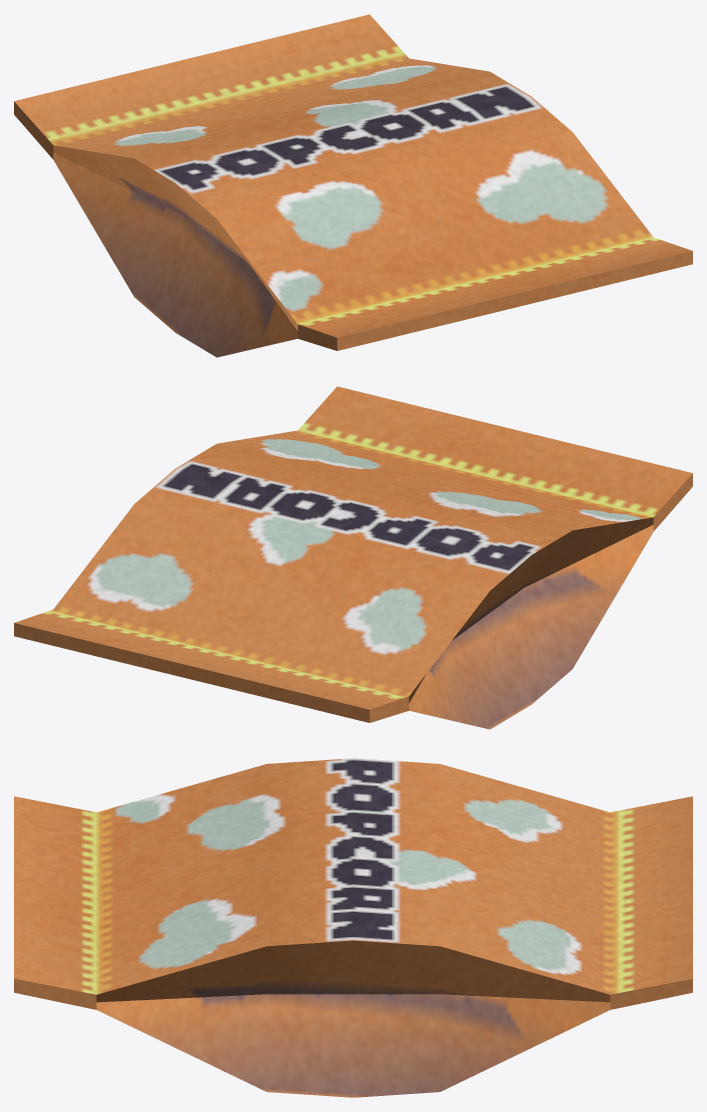
The model's file is Popcorn_Cooked 1.fbx.
The picture shows the model from 3 angles, top to bottom: view 1: azimuth 30°, elevation 25°; view 2: azimuth 150°, elevation 25°; view 3: azimuth 270°, elevation 25°; orthographic projection. The views are drawn at different scales.
Parts seen in each view (by area): view 1: Popcorn_Cooked; view 2: Popcorn_Cooked; view 3: Popcorn_Cooked.
Boxes of the visible parts, x1,y1,x2,y2 form: Popcorn_Cooked: (14, 14, 692, 357); Popcorn_Cooked: (14, 386, 692, 729); Popcorn_Cooked: (14, 758, 692, 1097).
Size of the model in its own units: 63.23 by 25.41 by 99.47.
